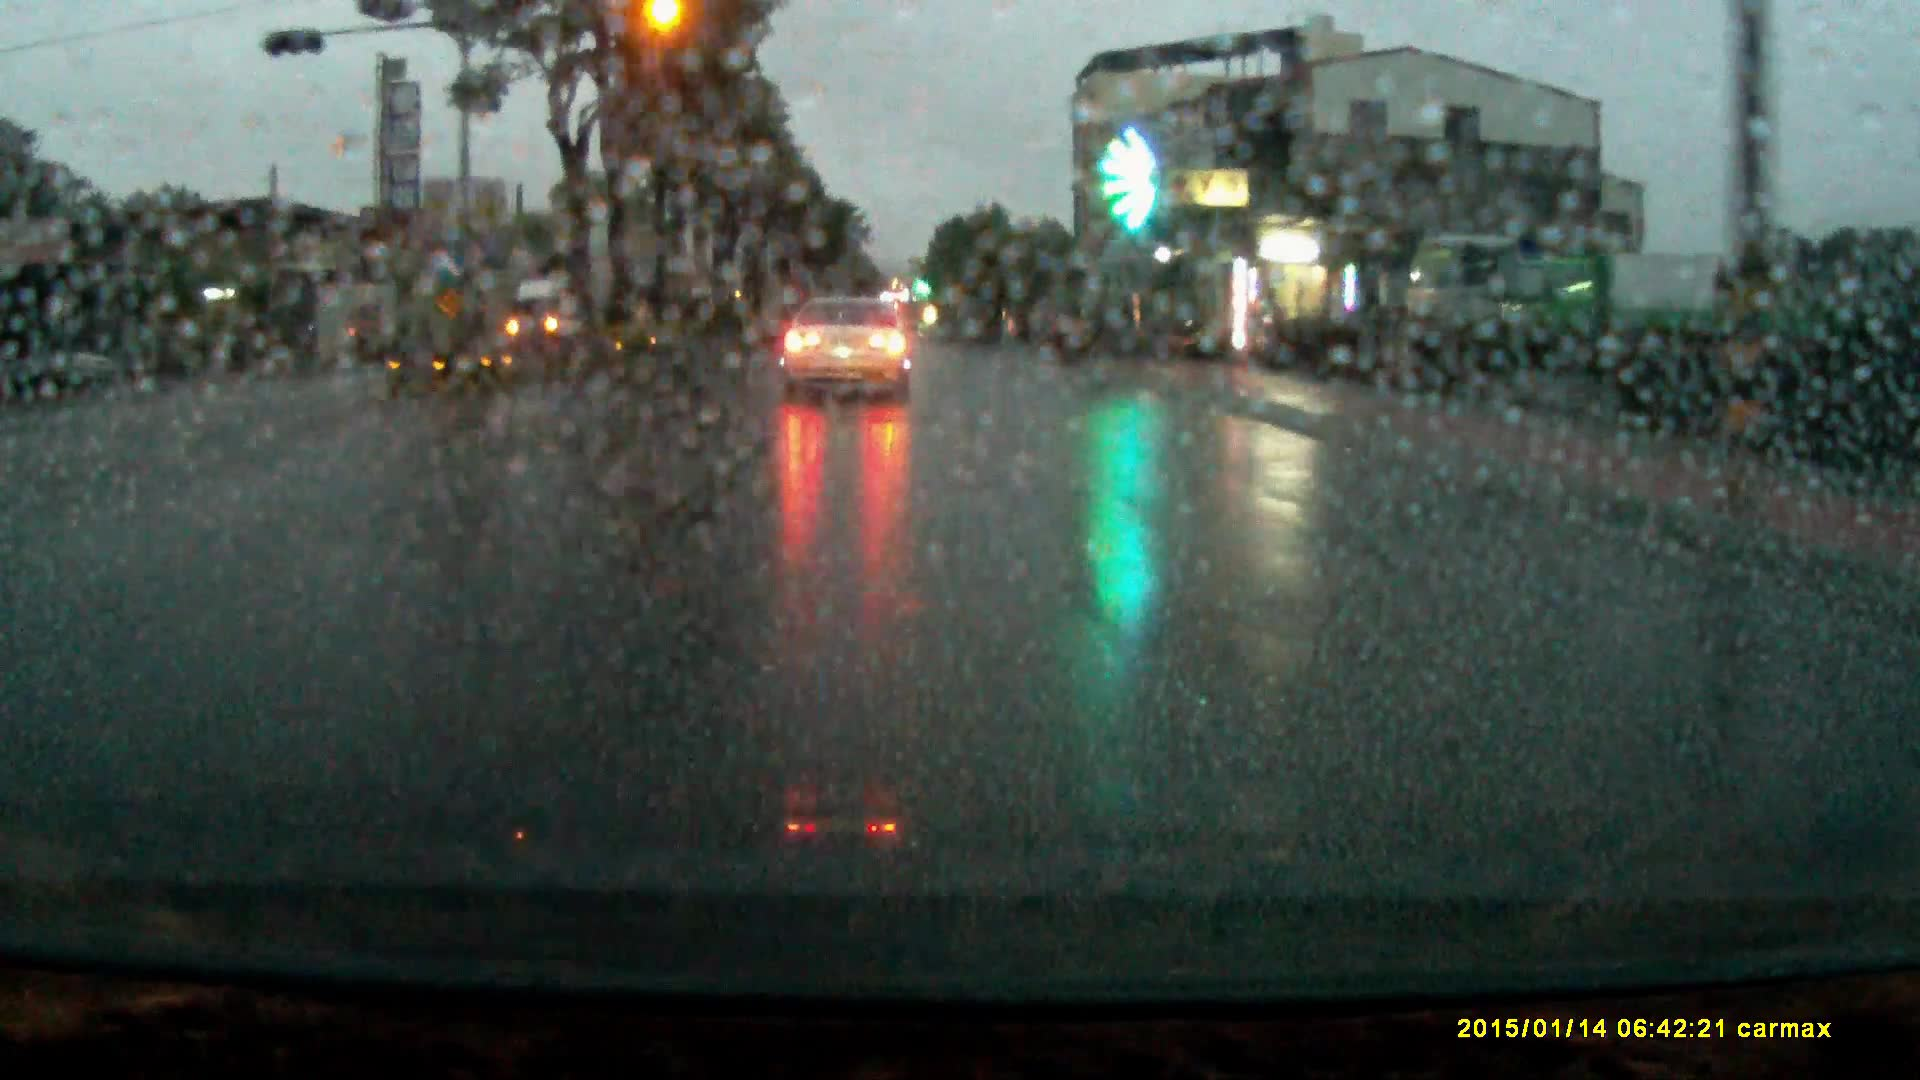vehicle: (1491, 253, 1724, 357), (778, 295, 916, 402), (1414, 229, 1524, 361), (506, 278, 584, 353)
